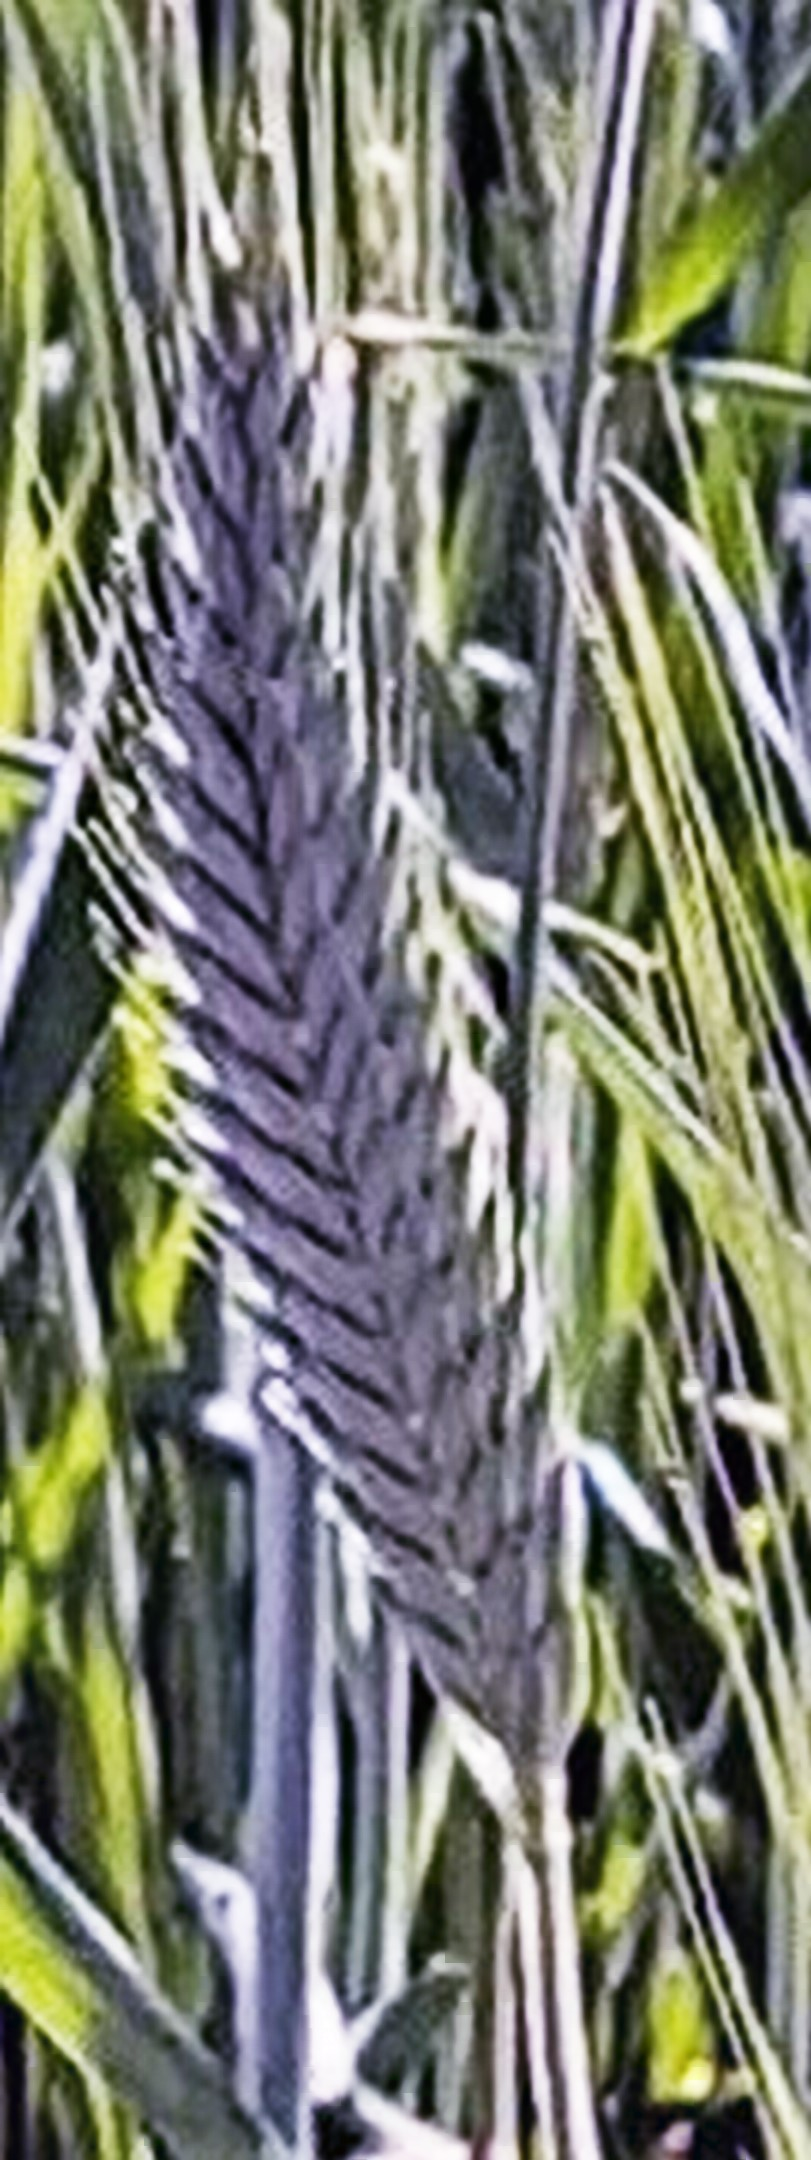Healthy Wheat: (129, 284, 613, 1767)
